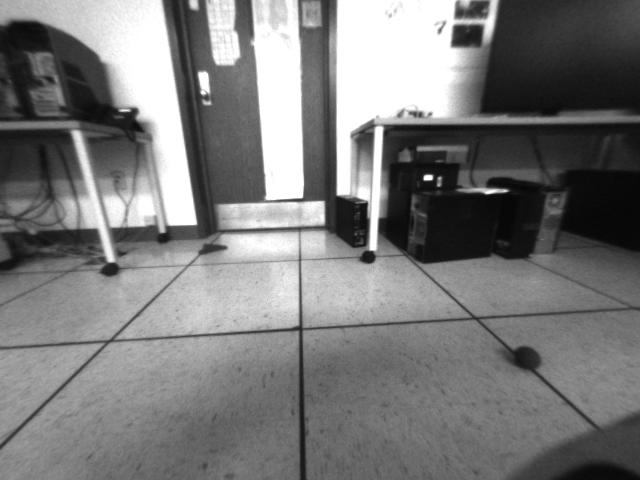dogtoy: (508, 338, 549, 377)
